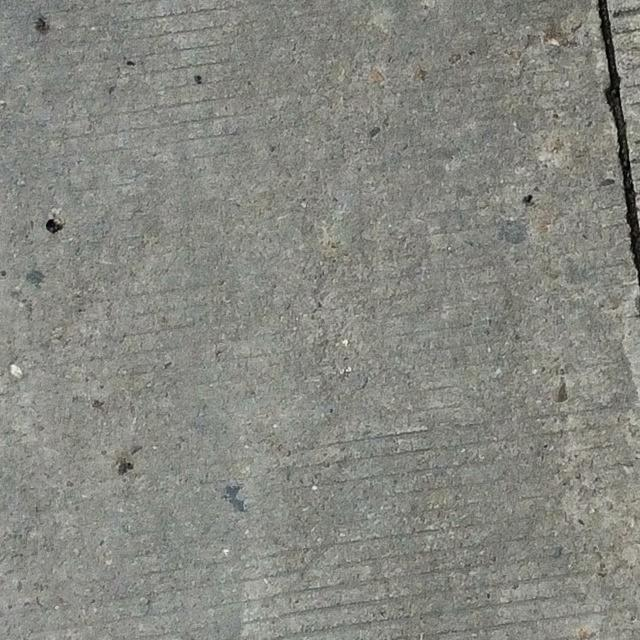LongitudinalCrack: (596, 1, 640, 285)
